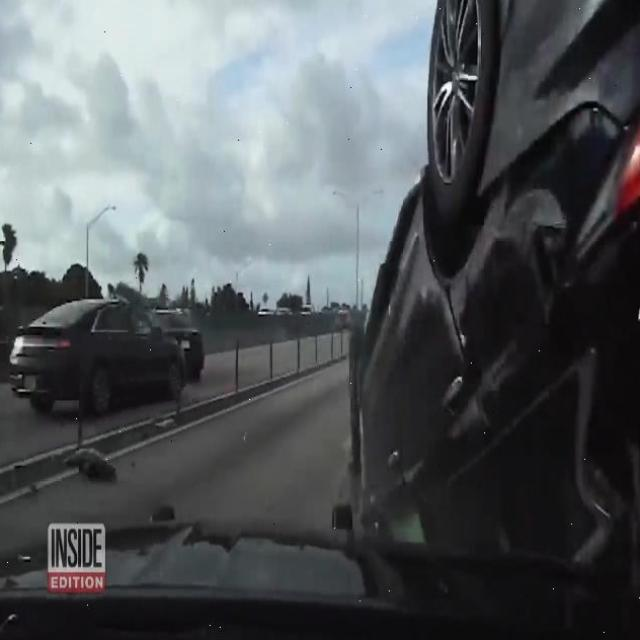accident: (346, 0, 640, 544)
